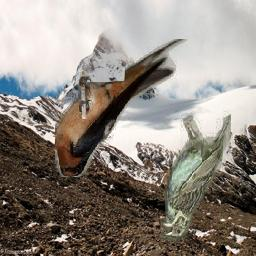Sparrow: (161, 109, 231, 245)
Swallow: (55, 39, 187, 177)
